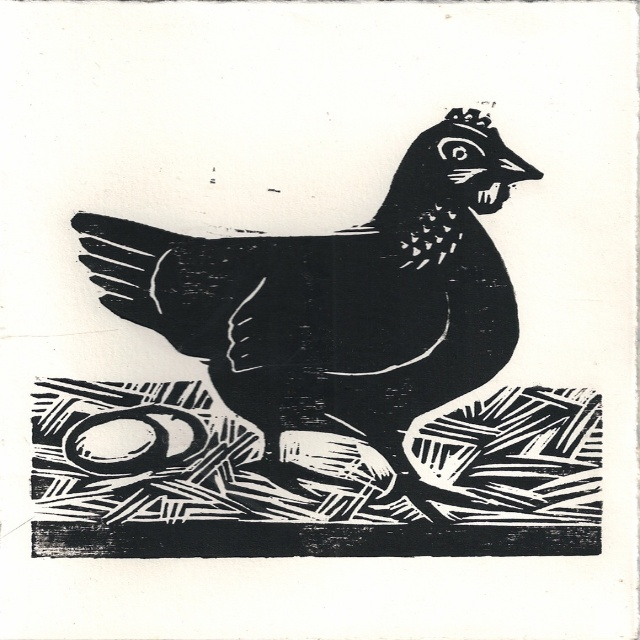Chicken: (68, 97, 540, 532)
